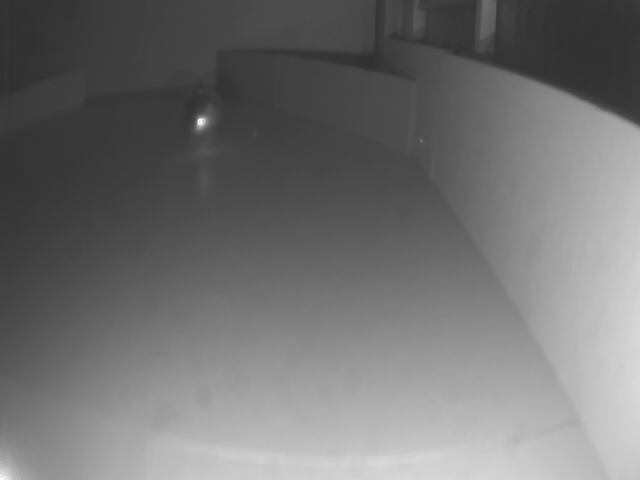Green: (215, 43, 419, 155)
Red: (0, 68, 91, 136)
